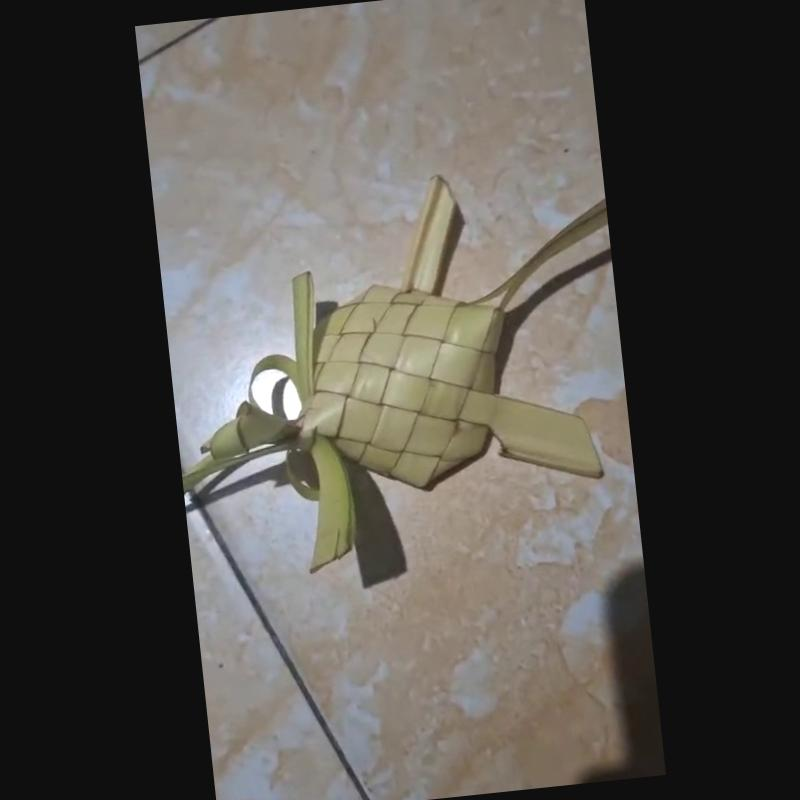Tipat Dampulan: (182, 164, 608, 567), (401, 329, 612, 492), (332, 451, 401, 539), (548, 189, 606, 269)
